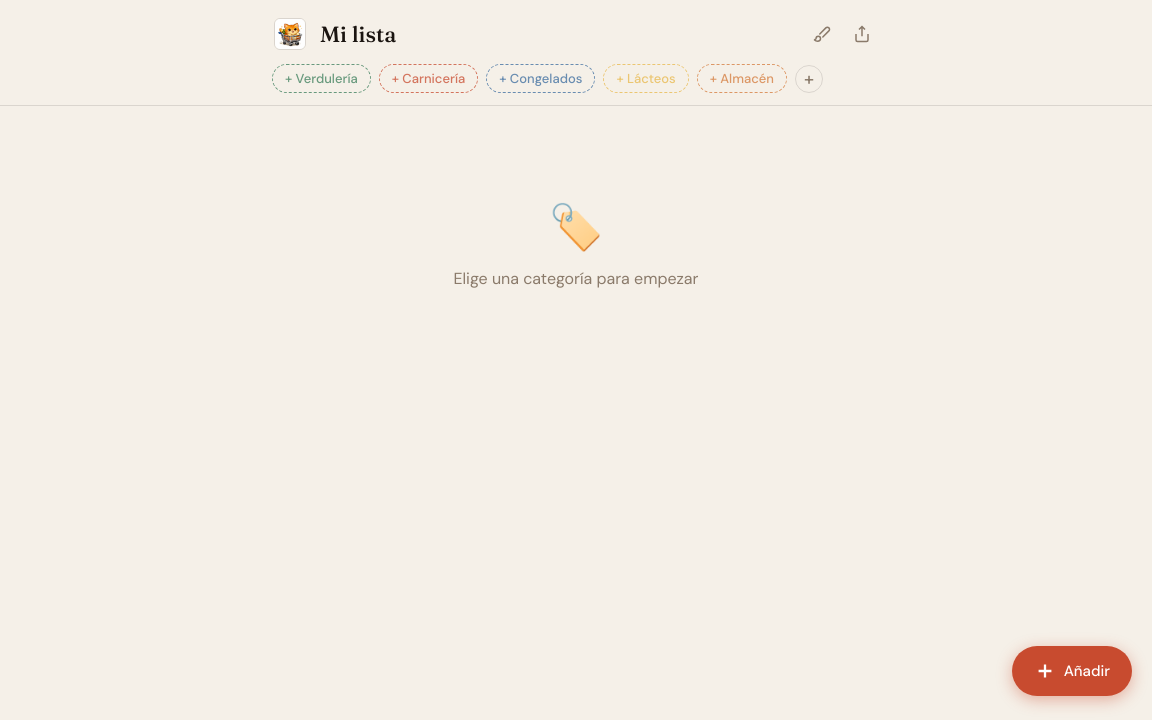
ListPage › opens confirm dialog when broom button is clicked
Expected: the heading "Mi lista" is shown, [320, 20, 396, 48]
Click the button titled "Limpiar lista": (822, 34) [804, 16, 840, 52]
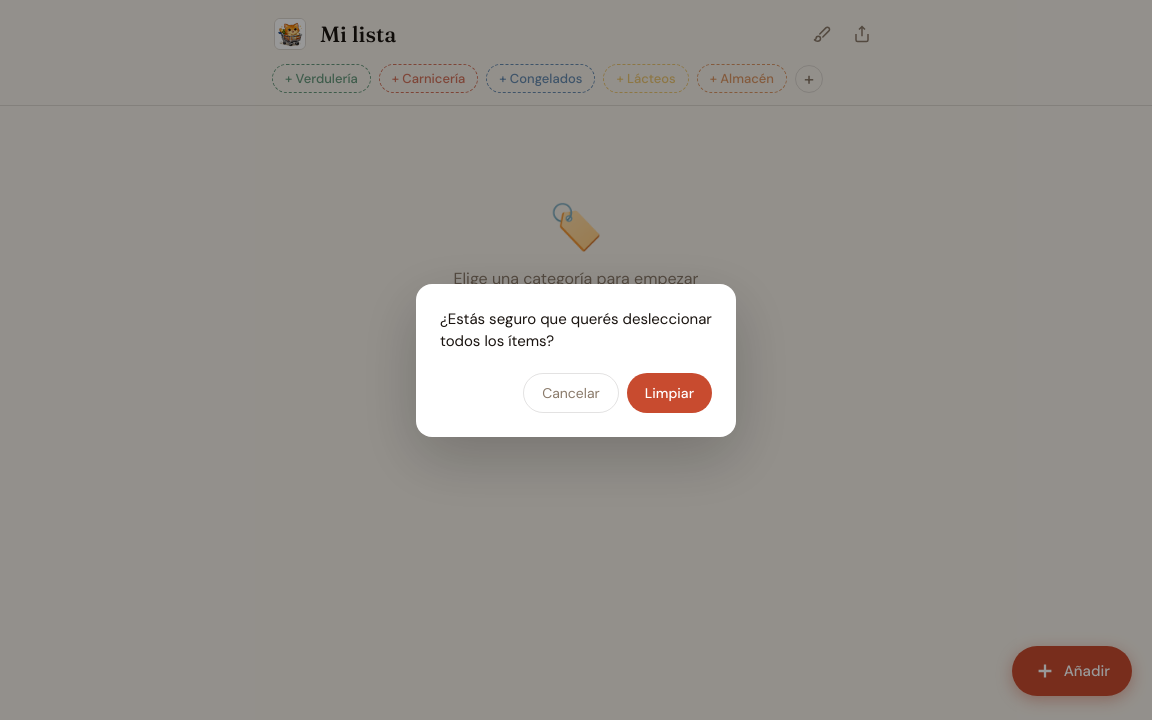
Now the text "¿Estás seguro que querés desleccionar todos los ítems?" is shown, box [440, 308, 712, 352]
